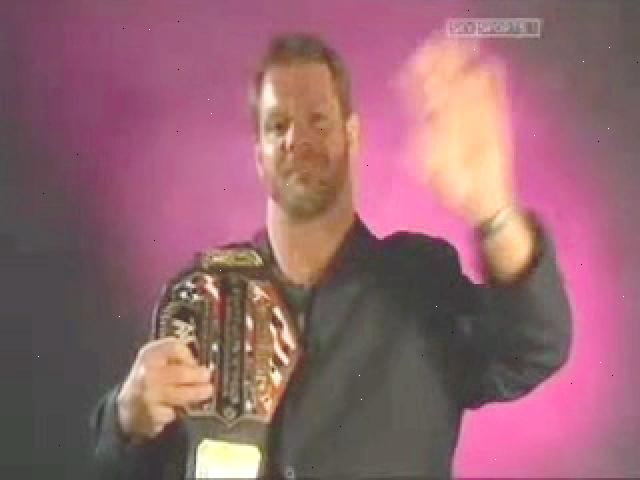L: (90, 31, 570, 478)
